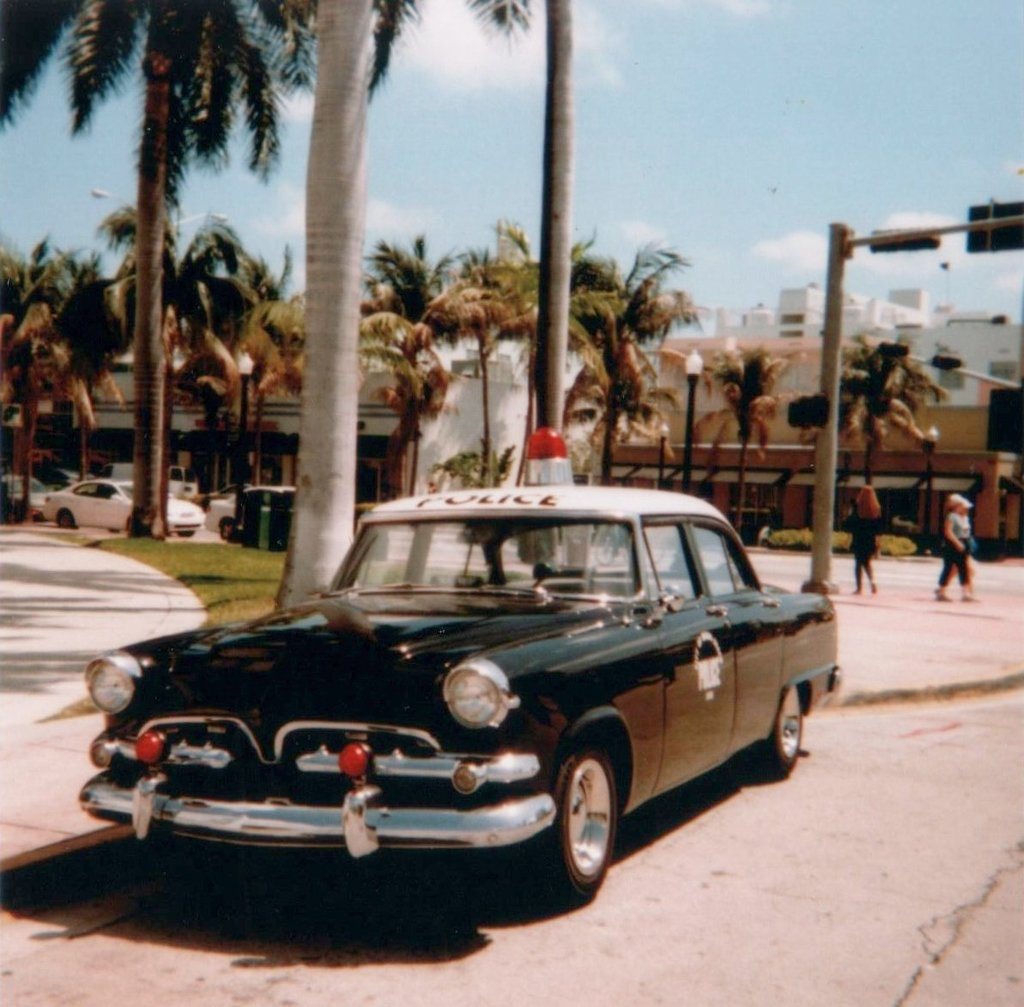Car: (76, 487, 836, 909), (42, 477, 206, 534)
